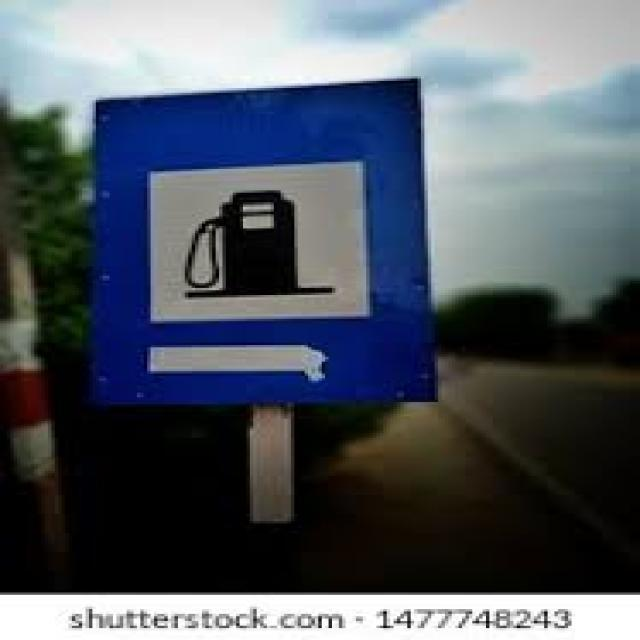petrol pump ahead: (99, 101, 427, 401)
